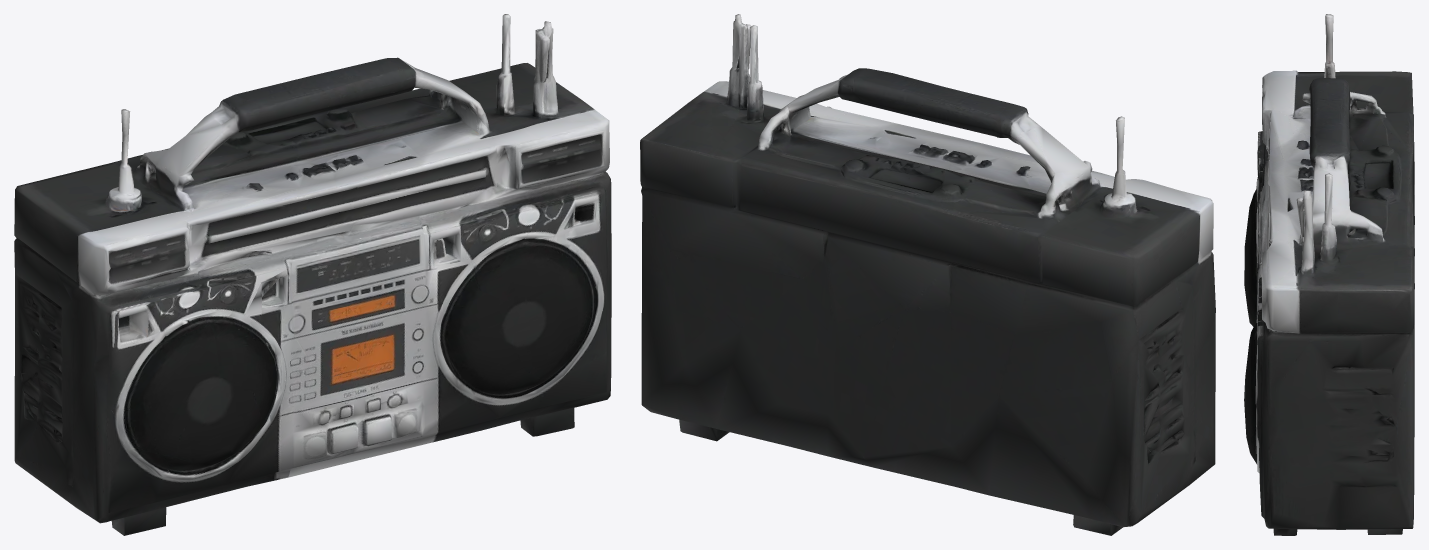
3 renders of one model, left to right at view 1: azimuth 30°, elevation 25°; view 2: azimuth 150°, elevation 25°; view 3: azimuth 270°, elevation 25°, orthographic. The views are drawn at different scales.
Bounding box in the file's own units: 2 × 1.47 × 0.6563.
1 material, 1 textured.
